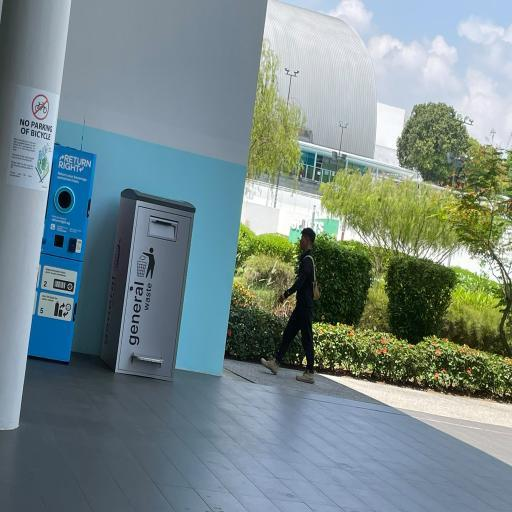person_left: (261, 228, 315, 382)
